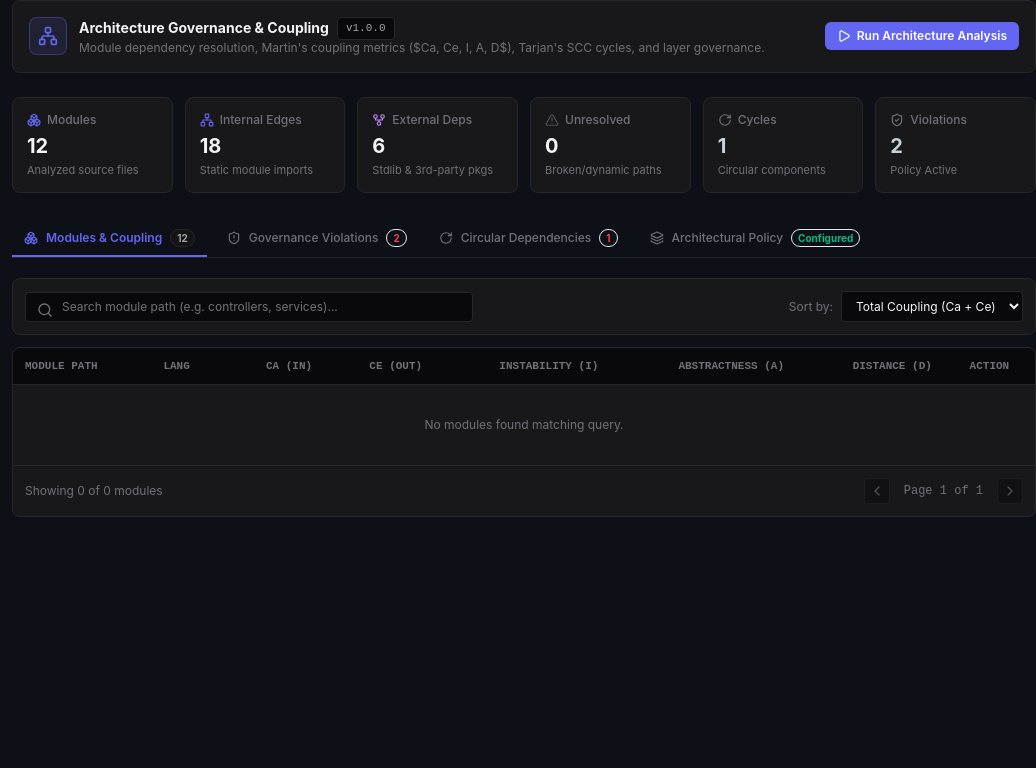
it: ArchitectureView Component › allows switching to Governance Violations tab
Click the button "Governance Violations 2": x=317, y=239 [215,221,419,257]
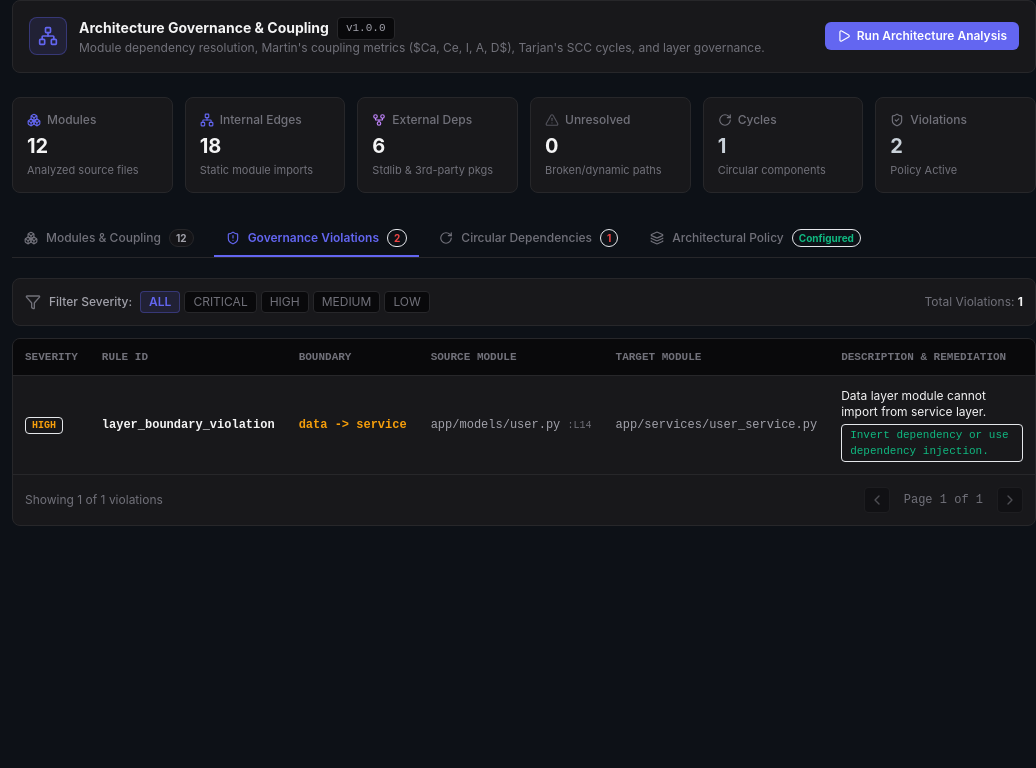
expect the text "layer_boundary_violation" is shown: met, box [90,376,287,474]
expect the text "data -> service" is shown: met, box [287,376,419,474]
expect the text "Data layer module cannot import from service layer." is shown: met, box [841,388,986,419]
